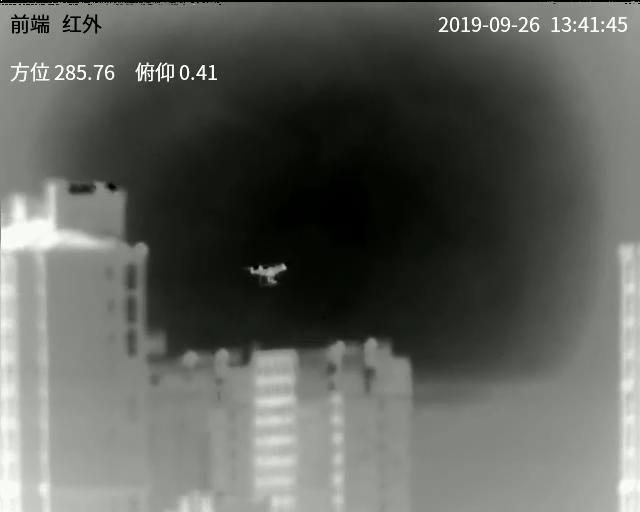uav: (241, 256, 288, 290)
